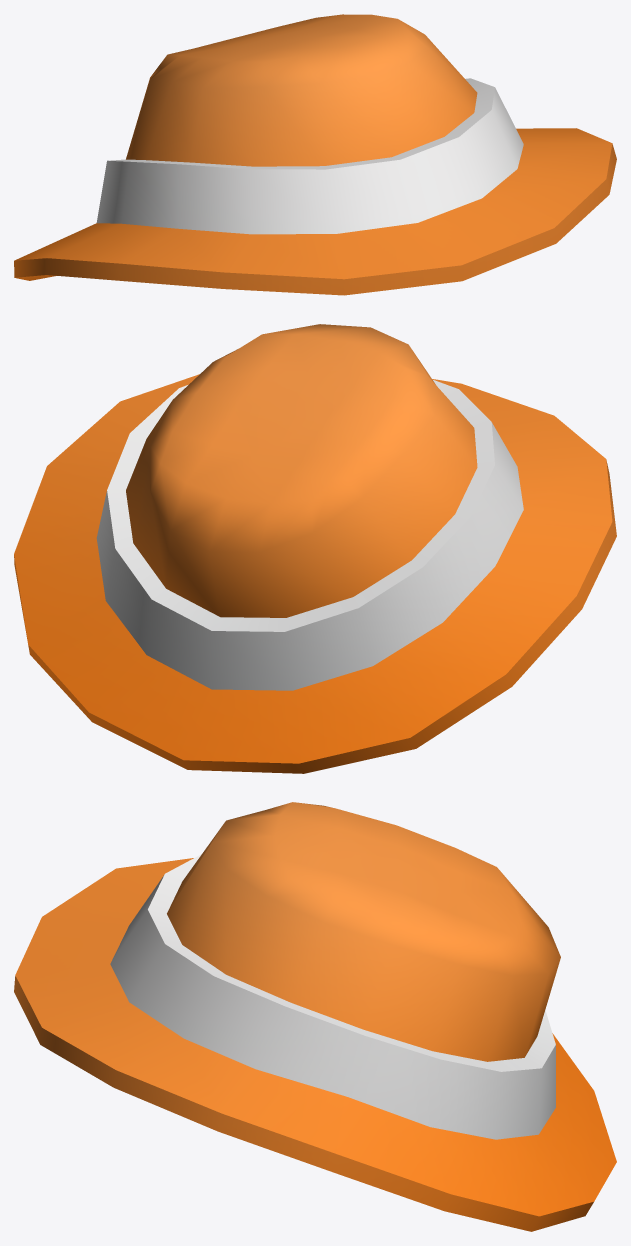
Rendered from Hat_40.glb.
The picture shows the model from 3 angles, top to bottom: view 1: azimuth 30°, elevation 25°; view 2: azimuth 150°, elevation 25°; view 3: azimuth 270°, elevation 25°; orthographic projection. The views are drawn at different scales.
Visible parts, largest first — view 1: Hat_40; view 2: Hat_40; view 3: Hat_40.
Part boxes in pixels (x1=…): Hat_40: x1=14, y1=14, x2=616, y2=295; Hat_40: x1=14, y1=324, x2=616, y2=773; Hat_40: x1=14, y1=802, x2=616, y2=1231.
Size of the model in its own units: 0.8489 by 0.4779 by 0.7657.
1 material, 1 textured.
